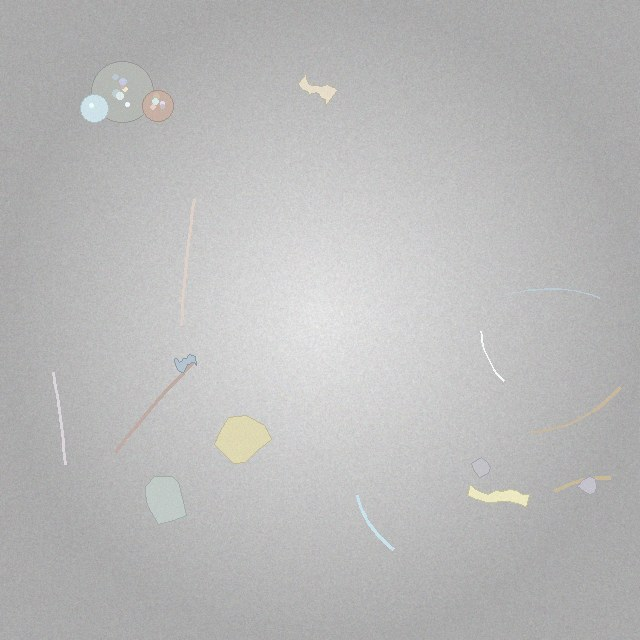fiber: (112, 359, 197, 456), (528, 384, 624, 436), (353, 491, 398, 554), (177, 195, 198, 329), (50, 369, 69, 468), (478, 329, 506, 383), (502, 286, 603, 300), (550, 474, 614, 495), (269, 373, 296, 395)
film: (468, 485, 529, 508), (299, 74, 338, 106), (174, 355, 197, 373)
foam: (92, 61, 153, 123), (142, 90, 174, 122)
fragment: (215, 415, 272, 464), (145, 476, 186, 525), (471, 458, 491, 477), (578, 477, 597, 495)
pellet: (80, 95, 108, 123)
